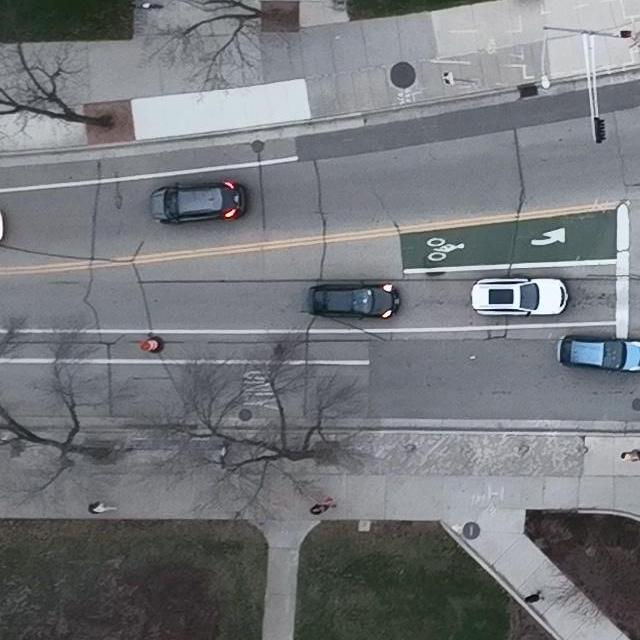car: (149, 181, 248, 226), (471, 274, 569, 318), (309, 279, 401, 321), (559, 331, 640, 372)
